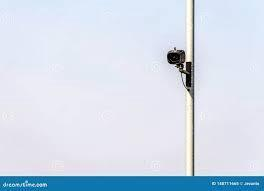Speed-Camera: (161, 44, 201, 83)
